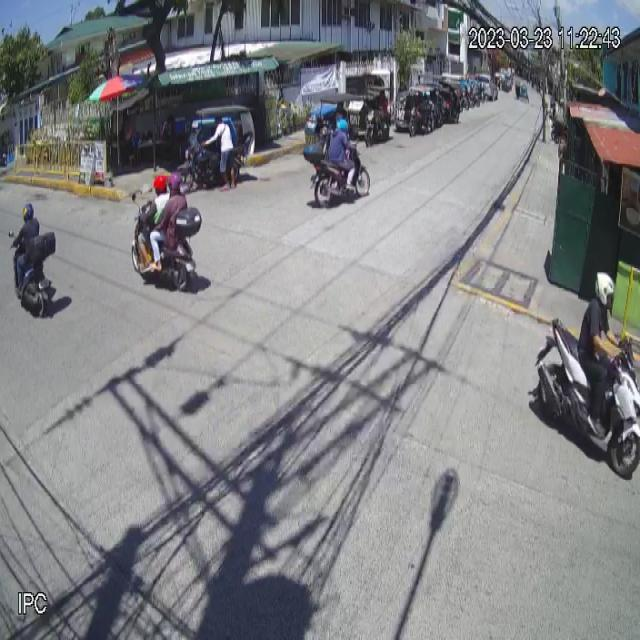Motorcycle: (529, 318, 640, 476), (130, 192, 202, 296), (299, 140, 371, 204), (7, 227, 58, 314)
